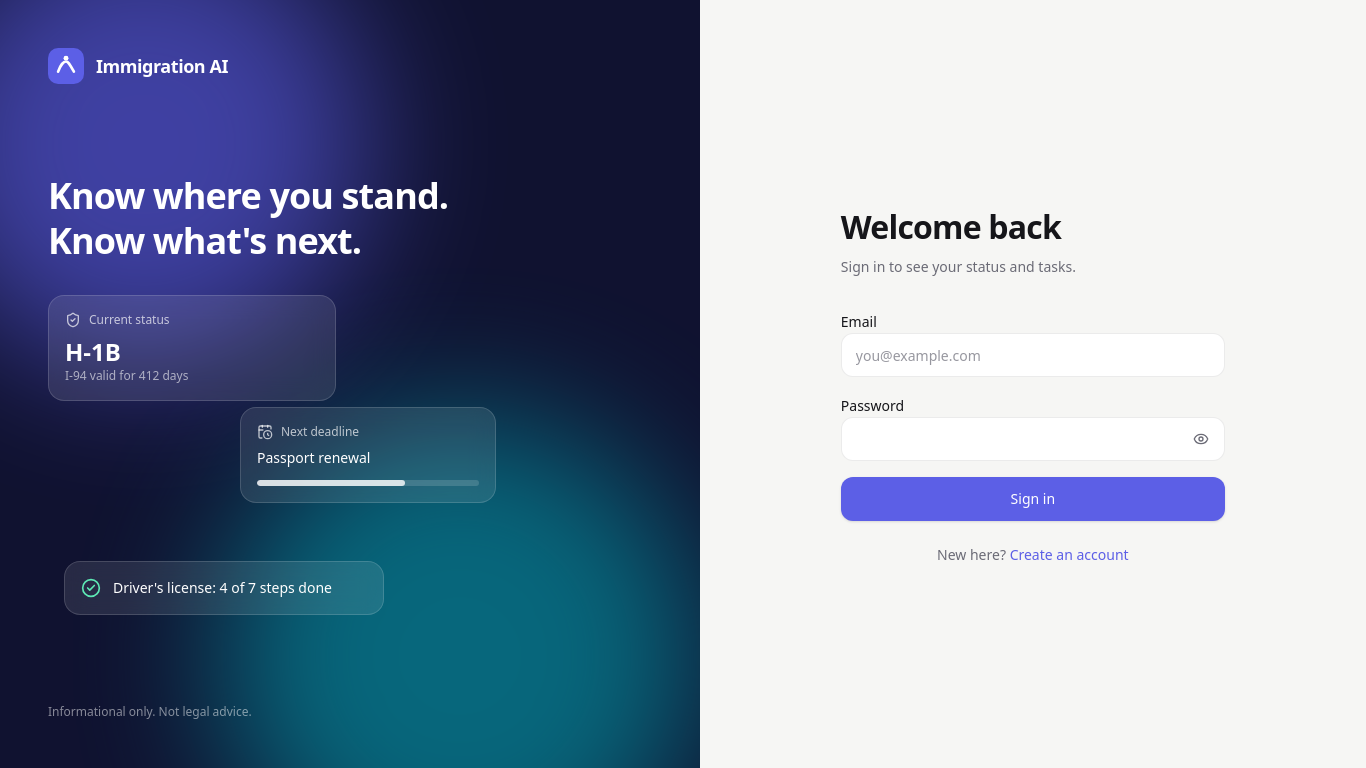
Login page › sends the credentials and shows the server's error for a wrong password
Type "me@example.com" into the field labelled "Email". click: (1033, 355)
box: [841,333,1225,377]
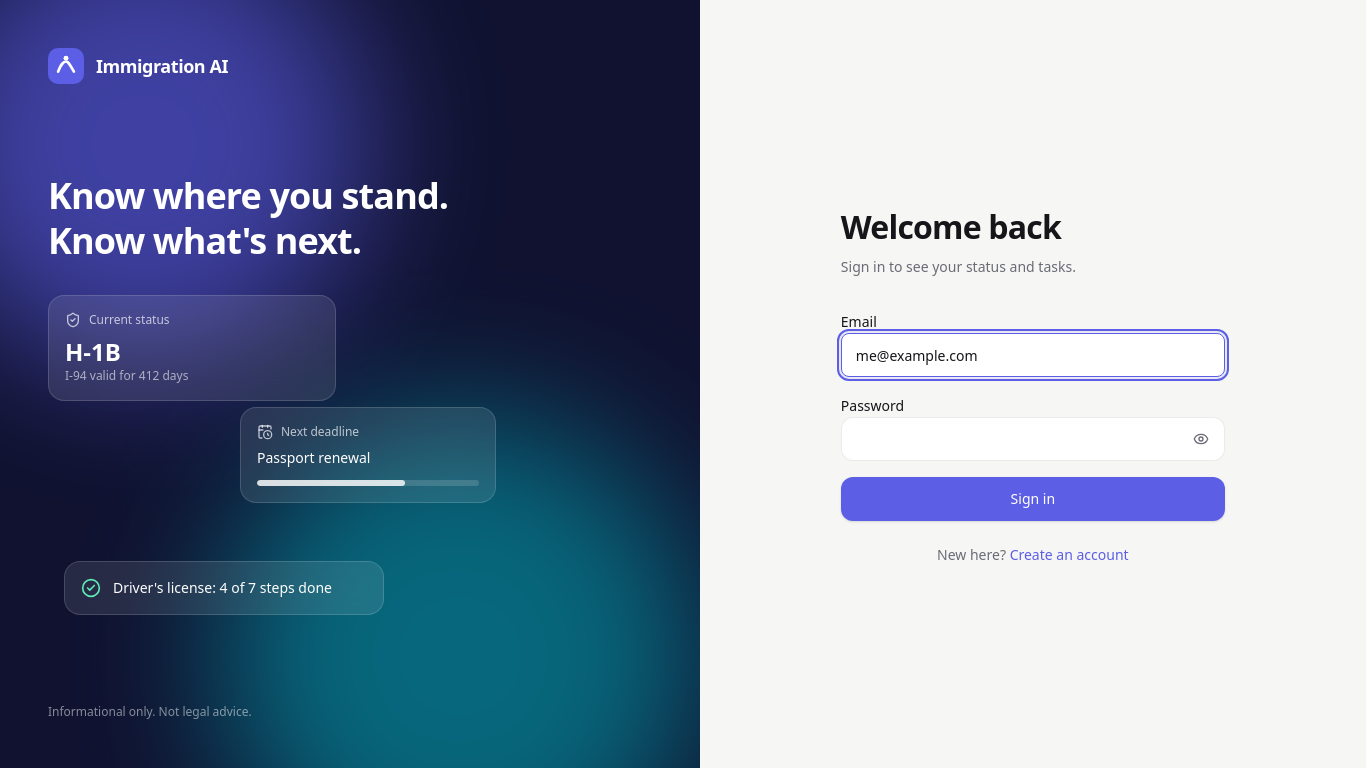
Type "nope-nope" into the password field labelled "Password". click: (1033, 439)
box: [841,417,1225,461]
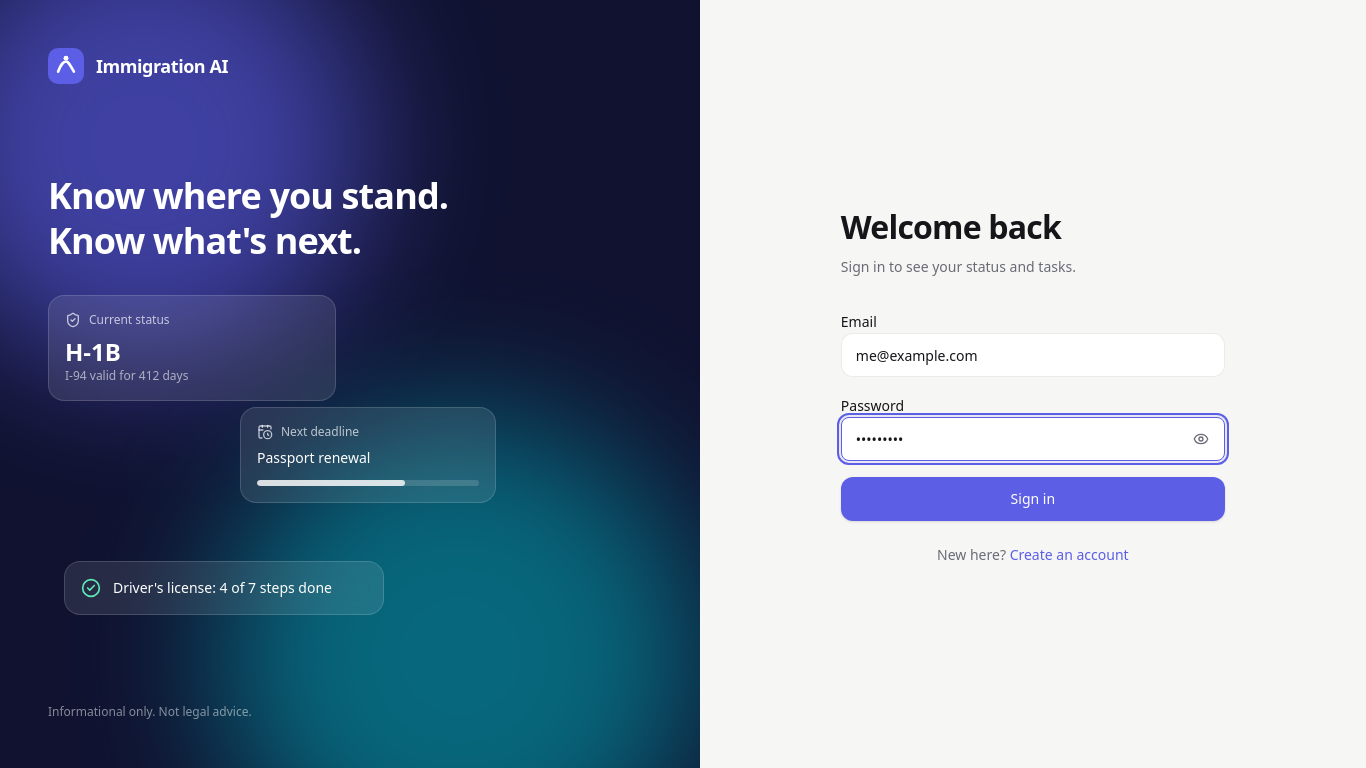
Click the button "Sign in". click: (1033, 499)
box: [841,477,1225,521]
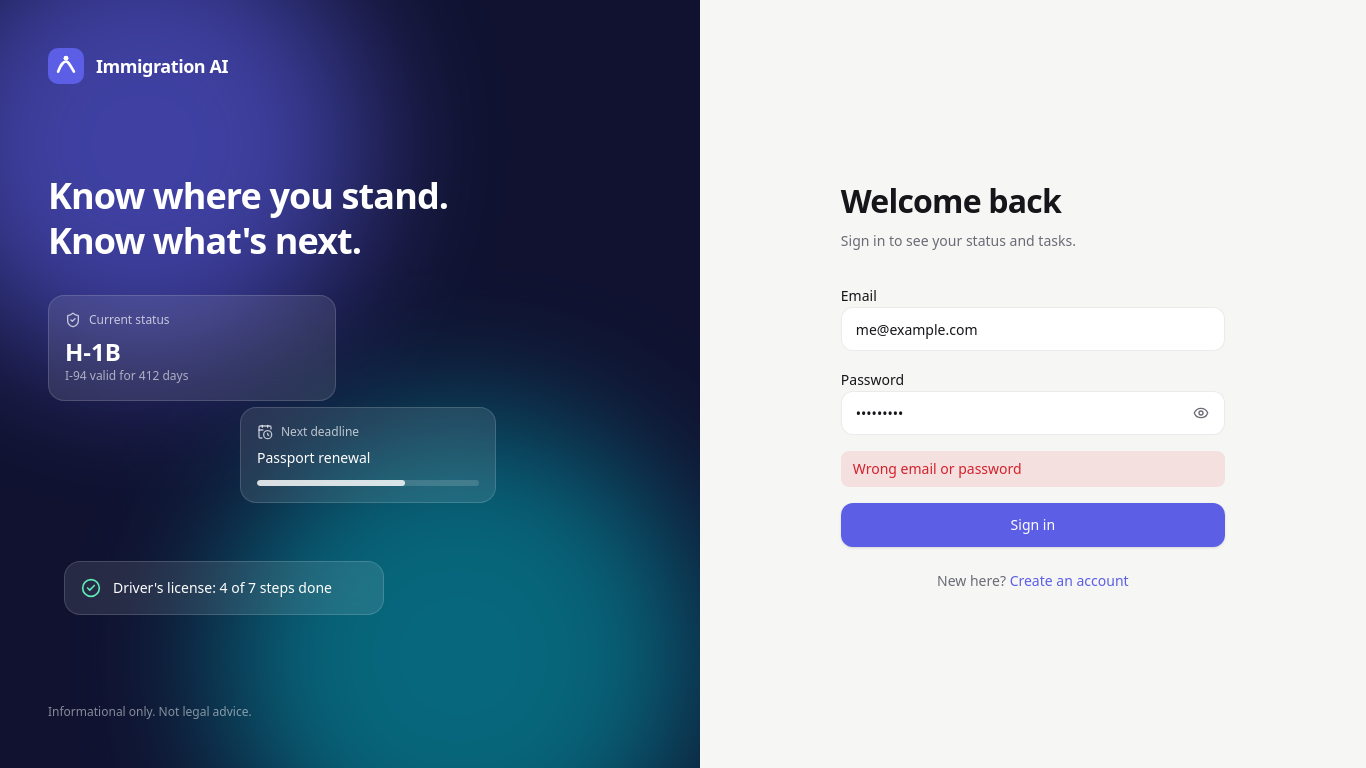
Now the message reads "Wrong email or password", box [853,459,1022,478]
